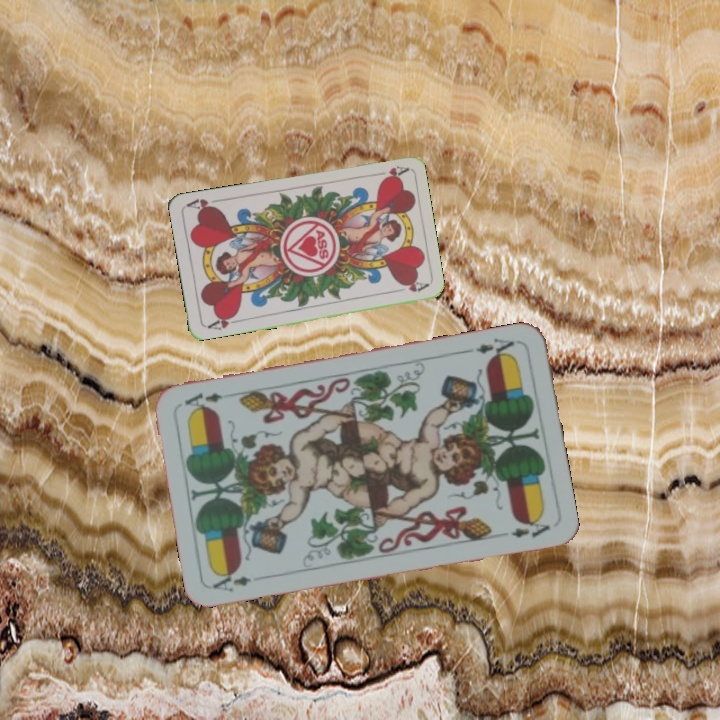EA: (462, 333, 516, 362), (209, 566, 254, 595)
HA: (203, 310, 243, 333), (369, 162, 409, 183)
